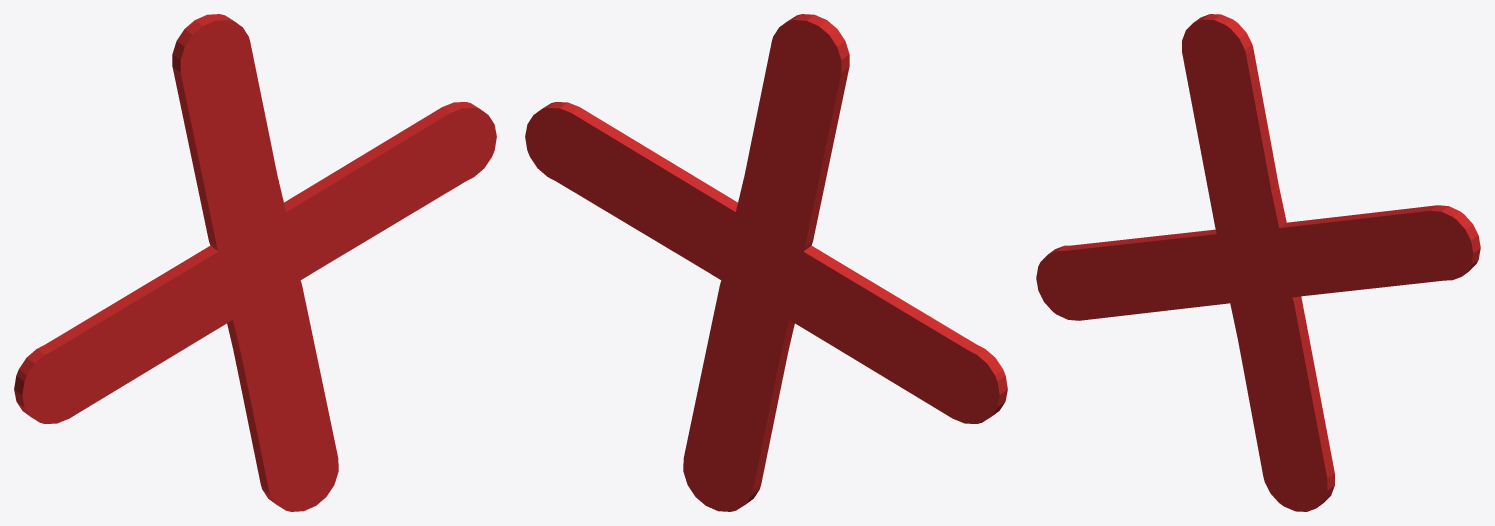
File: converted_link2_9_d12626ff.obj
The picture shows the model from 3 angles, left to right: view 1: azimuth 30°, elevation 25°; view 2: azimuth 150°, elevation 25°; view 3: azimuth 330°, elevation 25°; orthographic projection. The views are drawn at different scales.
Size of the model in its own units: 0.00334 by 0.00344 by 0.0001.
